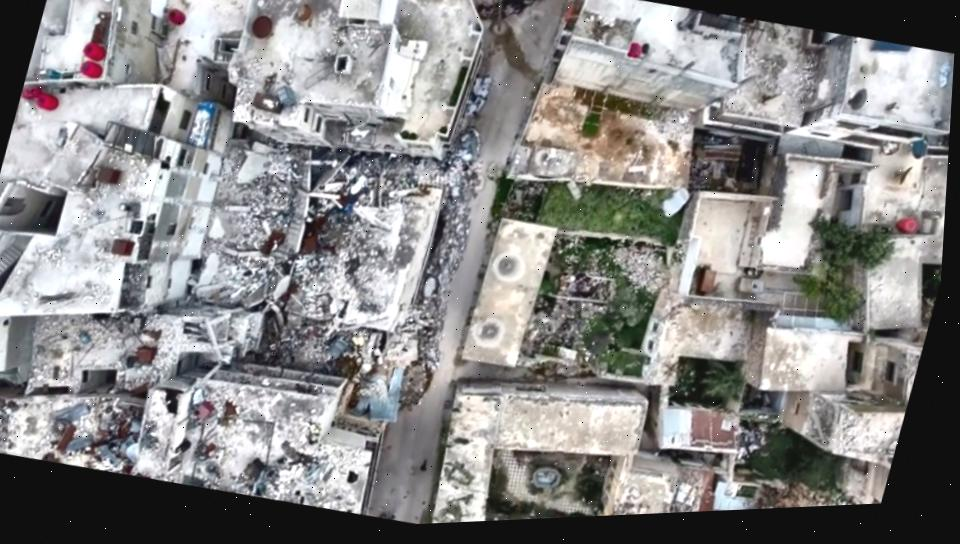kapali: (380, 107, 522, 455)
